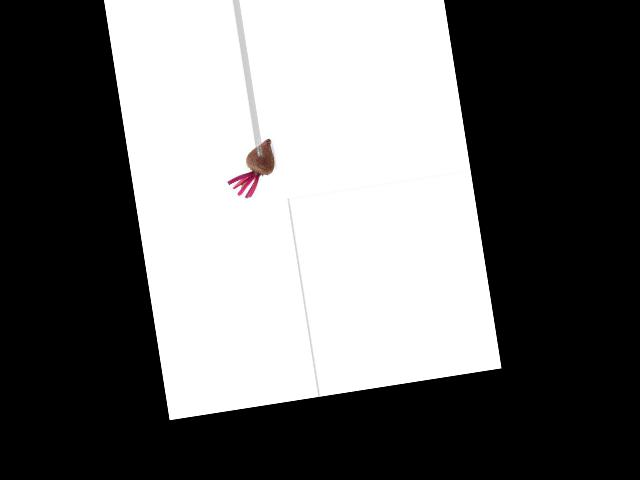beet: (222, 138, 279, 200)
